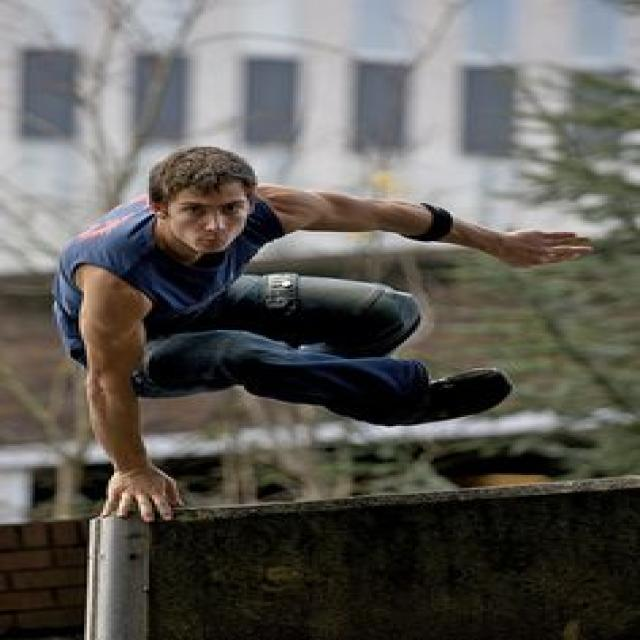sit: (46, 110, 530, 428)
